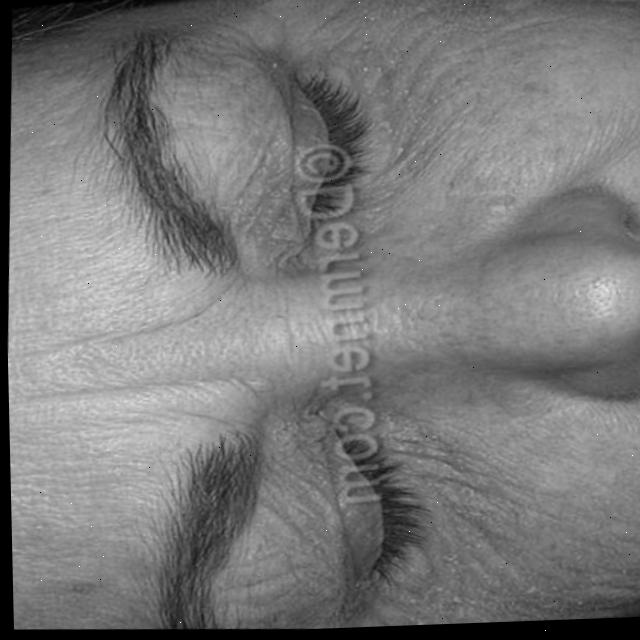Eczema: (359, 32, 498, 209), (411, 403, 539, 579)
